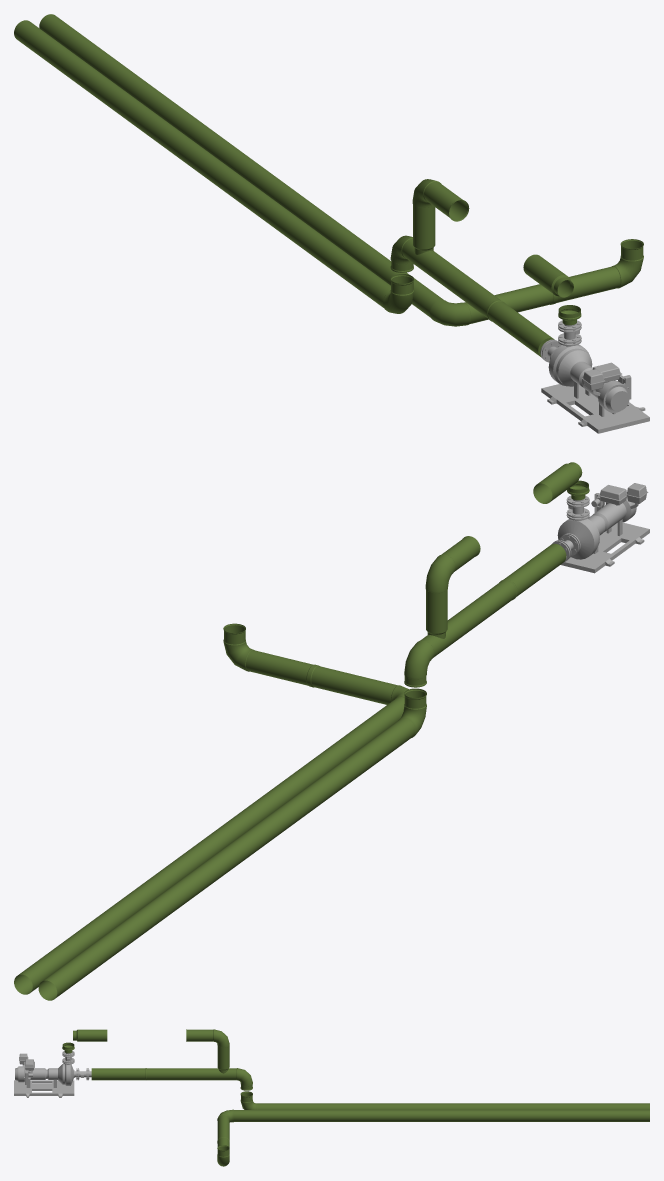
The model's file is PumpComplex-Out-3.fbx.
3 views of the same model, one above another, from view 1: azimuth 30°, elevation 25°; view 2: azimuth 150°, elevation 25°; view 3: azimuth 270°, elevation 25° (orthographic). The views are drawn at different scales.
Parts seen in each view (by area): view 1: PumpComplex-Out-3_Main-7, PumpRoom-PetrolEngine, PumpComplex-Out-3_Main-4, PumpComplex-Out-3_Main-6, PumpComplex-Out-3_Main-2, PumpComplex-Out-3_Outflow-1, PumpComplex-Out-3_Main-1, PumpComplex-Out-3_Inflow-2, PumpComplex-Out-3_Main-3, PumpComplex-Out-3_Main-5; view 2: PumpComplex-Out-3_Main-7, PumpRoom-PetrolEngine, PumpComplex-Out-3_Main-6, PumpComplex-Out-3_Main-4, PumpComplex-Out-3_Main-2, PumpComplex-Out-3_Outflow-1, PumpComplex-Out-3_Main-1, PumpComplex-Out-3_Inflow-2, PumpComplex-Out-3_Main-3, PumpComplex-Out-3_Main-5; view 3: PumpComplex-Out-3_Main-7, PumpRoom-PetrolEngine, PumpComplex-Out-3_Main-2, PumpComplex-Out-3_Main-4, PumpComplex-Out-3_Main-6, PumpComplex-Out-3_Outflow-1, PumpComplex-Out-3_Main-1, PumpComplex-Out-3_Inflow-2, PumpComplex-Out-3_Main-3, PumpComplex-Out-3_Main-5.
Part boxes in pixels (<box>): PumpComplex-Out-3_Main-7: <box>39,14,643,326</box>; PumpRoom-PetrolEngine: <box>540,320,649,433</box>; PumpComplex-Out-3_Main-4: <box>210,164,390,307</box>; PumpComplex-Out-3_Main-6: <box>14,20,196,161</box>; PumpComplex-Out-3_Main-2: <box>390,235,500,317</box>; PumpComplex-Out-3_Outflow-1: <box>412,179,469,254</box>; PumpComplex-Out-3_Main-1: <box>486,300,554,357</box>; PumpComplex-Out-3_Inflow-2: <box>523,254,573,297</box>; PumpComplex-Out-3_Main-3: <box>382,274,413,313</box>; PumpComplex-Out-3_Main-5: <box>181,143,225,182</box>; PumpComplex-Out-3_Main-7: <box>14,623,408,994</box>; PumpRoom-PetrolEngine: <box>551,483,649,573</box>; PumpComplex-Out-3_Main-6: <box>38,861,219,1000</box>; PumpComplex-Out-3_Main-4: <box>233,718,415,858</box>; PumpComplex-Out-3_Main-2: <box>404,580,516,687</box>; PumpComplex-Out-3_Outflow-1: <box>425,536,480,638</box>; PumpComplex-Out-3_Main-1: <box>499,543,566,599</box>; PumpComplex-Out-3_Inflow-2: <box>533,462,582,503</box>; PumpComplex-Out-3_Main-3: <box>398,688,426,737</box>; PumpComplex-Out-3_Main-5: <box>206,840,248,878</box>; PumpComplex-Out-3_Main-7: <box>217,1109,649,1166</box>; PumpRoom-PetrolEngine: <box>14,1051,91,1097</box>; PumpComplex-Out-3_Main-2: <box>146,1068,252,1090</box>; PumpComplex-Out-3_Main-4: <box>257,1103,440,1109</box>; PumpComplex-Out-3_Main-6: <box>471,1103,649,1109</box>; PumpComplex-Out-3_Outflow-1: <box>186,1029,229,1073</box>; PumpComplex-Out-3_Main-1: <box>91,1068,146,1080</box>; PumpComplex-Out-3_Inflow-2: <box>73,1029,107,1041</box>; PumpComplex-Out-3_Main-3: <box>240,1091,257,1109</box>; PumpComplex-Out-3_Main-5: <box>440,1103,471,1109</box>.
Bounding box in the file's own units: 195 × 121 × 820.
